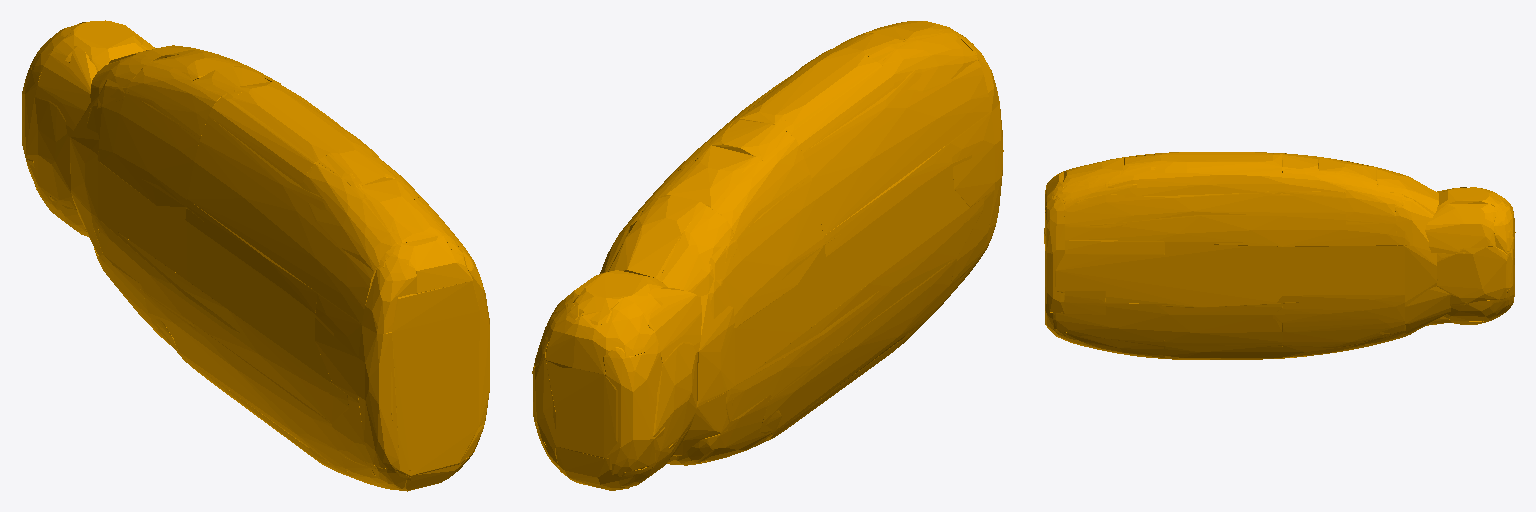
robot.urdf — bottle-shampoo:
<?xml version="1.0" ?>
<robot name="bottle-shampoo">
  <link name="baseLink">
    <contact>
      <lateral_friction value="1.0"/>
      <inertia_scaling value="3.0"/>
    </contact>
    <inertial>
      <origin rpy="0 0 0" xyz="0.000 0.000 0.000"/>
       <mass value=".1"/>
       <inertia ixx="1" ixy="0.0" ixz="0.0" iyy="1" iyz="0.0" izz="1"/>
    </inertial>
    <visual>
      <origin rpy="0 0 0" xyz="0 0 0"/>
      <geometry>
        <mesh filename="bottle/bottle-shampoo_doux.obj" scale="1.0 1.0 1.0"/>
      </geometry>
    </visual>
    <collision>
      <origin rpy="0 0 0" xyz="0 0 0"/>
      <geometry>
        <mesh filename="../collision/bottle/bottle-shampoo_doux.obj" scale="1.0 1.0 1.0"/>
      </geometry>
    </collision>
  </link>
</robot>
        

--- Render facts (derived) ---
Views: 3 orthographic renders of the robot side by side, from view 1: azimuth 30°, elevation 25°; view 2: azimuth 150°, elevation 25°; view 3: azimuth 270°, elevation 25°.
Model bottle-shampoo with 1 links and 0 joints (none), rooted at baseLink, posed all joints at 0.
Links seen in each view (by area): view 1: baseLink; view 2: baseLink; view 3: baseLink.
Link boxes in pixels (box(x1,y1,x2,y2)): baseLink: box(22, 20, 489, 491); baseLink: box(532, 21, 1003, 490); baseLink: box(1044, 152, 1515, 359).
Bounding box of the posed robot: 0.0343 × 0.1711 × 0.0794 m (x, y, z).
1 mesh visuals loaded from 1 distinct referenced files (1 OBJ).